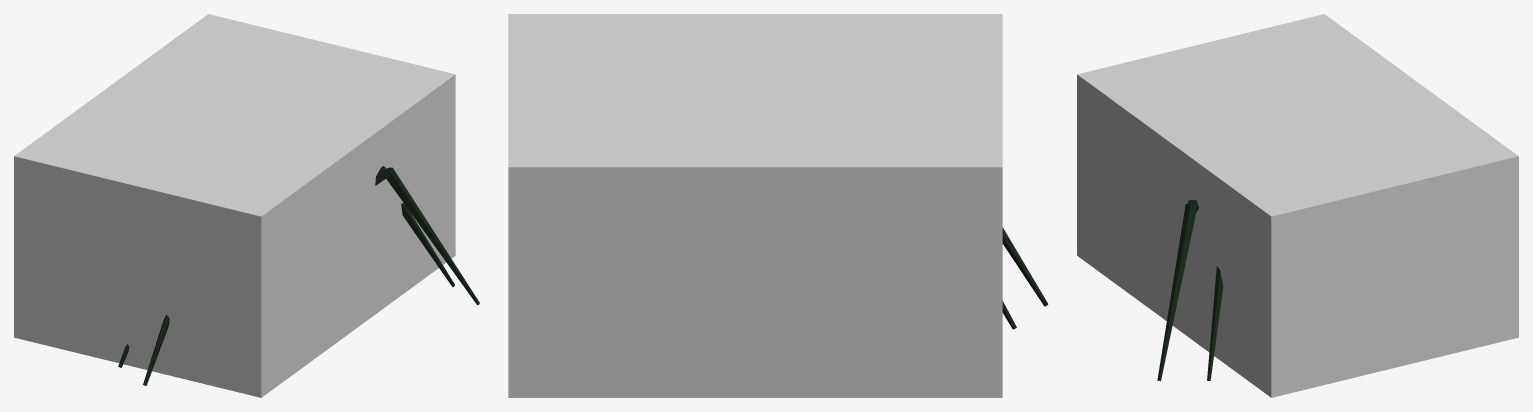
The model's file is jungle_venomous_spider.fbx.
The picture shows the model from 3 angles, left to right: view 1: azimuth 30°, elevation 25°; view 2: azimuth 150°, elevation 25°; view 3: azimuth 270°, elevation 25°; orthographic projection. The views are drawn at different scales.
Visible parts, largest first — view 1: Root__0.00_1.98_0.34__7.77_4.00_5.71, LegL1__Body__-0.72_2.09_-1.31, LegL2__Body__-0.72_2.09_-0.78, LegR1__Body__0.72_2.09_-1.31; view 2: Root__0.00_1.98_0.34__7.77_4.00_5.71, LegR1__Body__0.72_2.09_-1.31; view 3: Root__0.00_1.98_0.34__7.77_4.00_5.71, LegL1__Body__-0.72_2.09_-1.31, LegL2__Body__-0.72_2.09_-0.78.
Part boxes in pixels (x1=…): Root__0.00_1.98_0.34__7.77_4.00_5.71: x1=14, y1=14, x2=455, y2=397; LegL1__Body__-0.72_2.09_-1.31: x1=375, y1=166, x2=479, y2=305; LegL2__Body__-0.72_2.09_-0.78: x1=401, y1=203, x2=454, y2=287; LegR1__Body__0.72_2.09_-1.31: x1=143, y1=315, x2=169, y2=385; Root__0.00_1.98_0.34__7.77_4.00_5.71: x1=508, y1=14, x2=1002, y2=397; LegR1__Body__0.72_2.09_-1.31: x1=1002, y1=227, x2=1048, y2=306; Root__0.00_1.98_0.34__7.77_4.00_5.71: x1=1077, y1=14, x2=1518, y2=397; LegL1__Body__-0.72_2.09_-1.31: x1=1157, y1=200, x2=1198, y2=381; LegL2__Body__-0.72_2.09_-0.78: x1=1207, y1=266, x2=1223, y2=380.
Size of the model in its own units: 268 by 112 by 247.
1 material, 1 textured.
